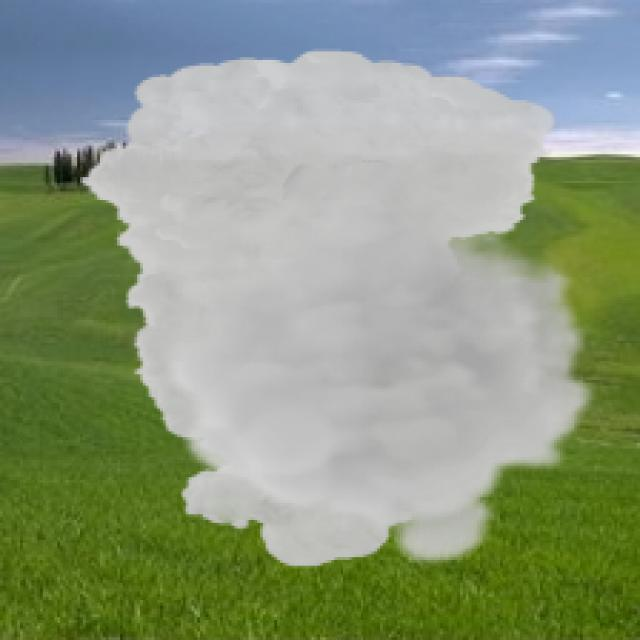smoke: (77, 49, 597, 568)
